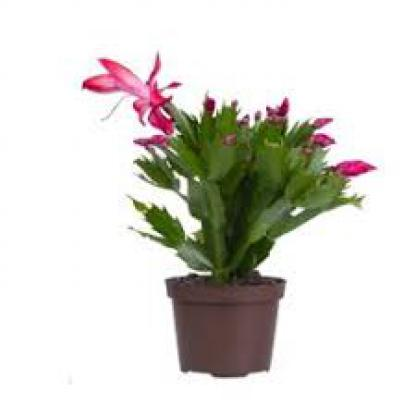Aglonema: (64, 25, 382, 388)
